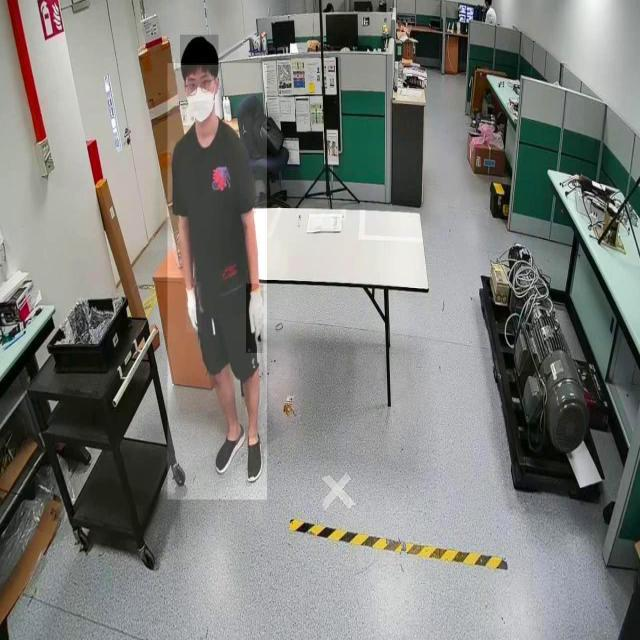face_mask: (186, 76, 218, 132)
glasses: (182, 75, 213, 102)
hand_glove: (246, 284, 264, 354), (186, 282, 202, 333)
head_nohelmet: (180, 34, 219, 66)
person: (168, 63, 268, 501)
shoes: (214, 412, 248, 473), (242, 425, 262, 483)
